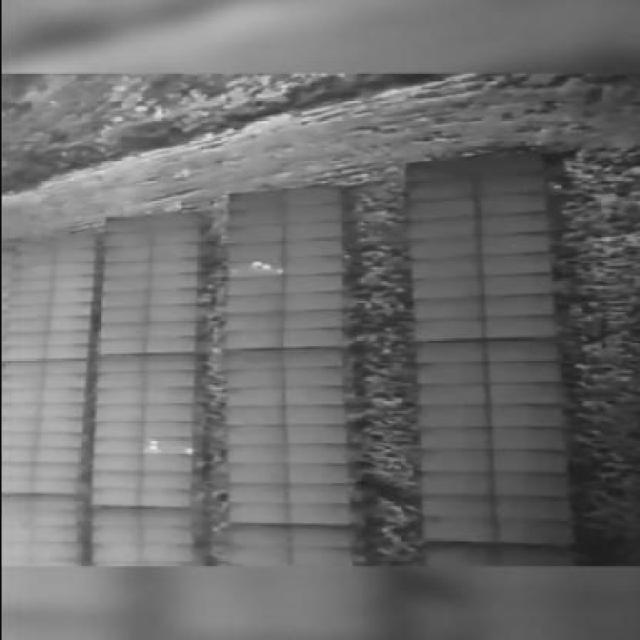hotspot: (274, 268, 289, 278), (248, 258, 262, 268), (182, 448, 196, 457), (143, 443, 157, 451), (145, 438, 161, 444), (260, 264, 274, 270)
